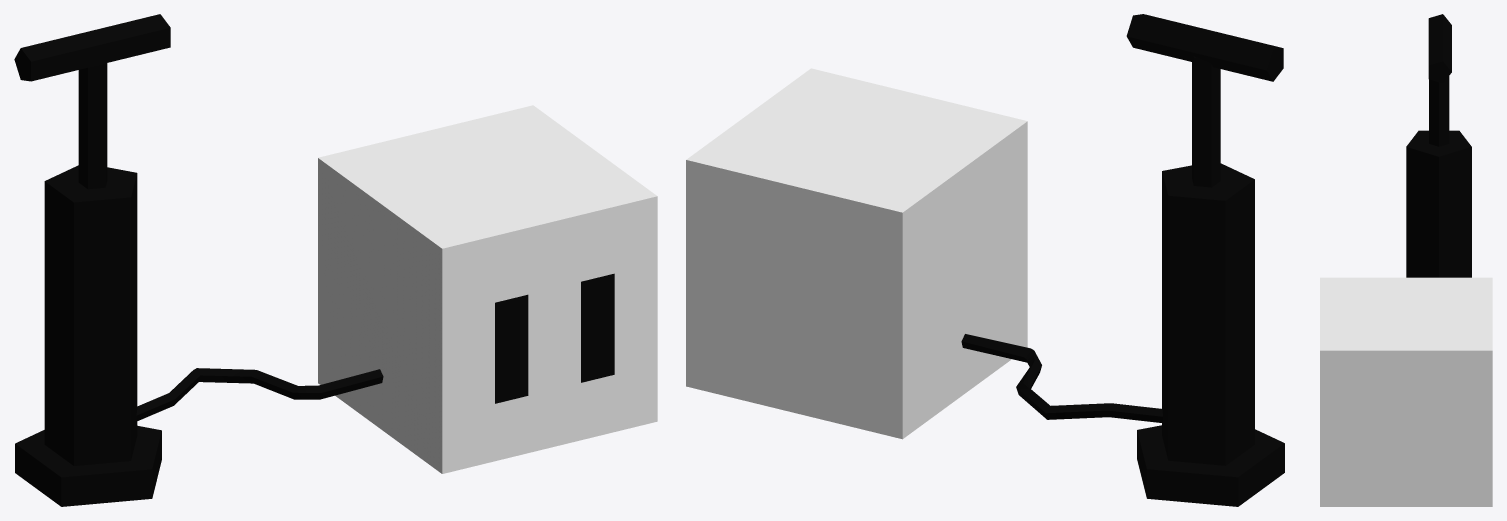
Rendered from kuki.glb.
The picture shows the model from 3 angles, left to right: view 1: azimuth 30°, elevation 25°; view 2: azimuth 150°, elevation 25°; view 3: azimuth 270°, elevation 25°; orthographic projection. The views are drawn at different scales.
Visible parts, largest first — view 1: pCube1, pCylinder6, pCylinder5, pCylinder7, pPlane1, pPlane2; view 2: pCube1, pCylinder6, pCylinder5, pCylinder7; view 3: pCube1, pCylinder6, pCylinder5.
Boxes of the visible parts, box(x1,y1,x2,y2) form: pCube1: box(318, 105, 657, 473); pCylinder6: box(15, 165, 161, 506); pCylinder5: box(14, 14, 170, 189); pCylinder7: box(136, 368, 383, 421); pPlane1: box(495, 294, 528, 403); pPlane2: box(581, 273, 614, 382); pCube1: box(686, 68, 1027, 439); pCylinder6: box(1137, 163, 1284, 506); pCylinder5: box(1126, 14, 1283, 187); pCylinder7: box(961, 334, 1162, 423); pCube1: box(1320, 277, 1492, 506); pCylinder6: box(1406, 130, 1471, 277); pCylinder5: box(1428, 14, 1451, 146).
Bounding box in the file's own units: 0.1273 × 0.0984 × 0.0519.
1 material, 1 textured.
